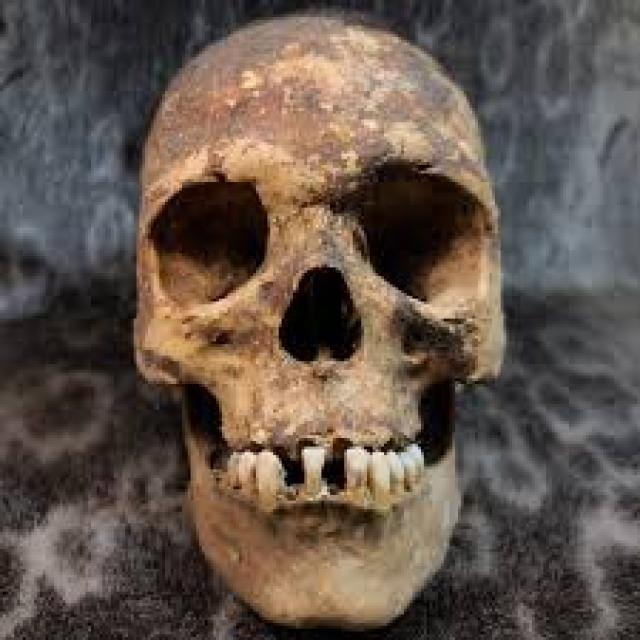skull: (124, 9, 514, 640)
